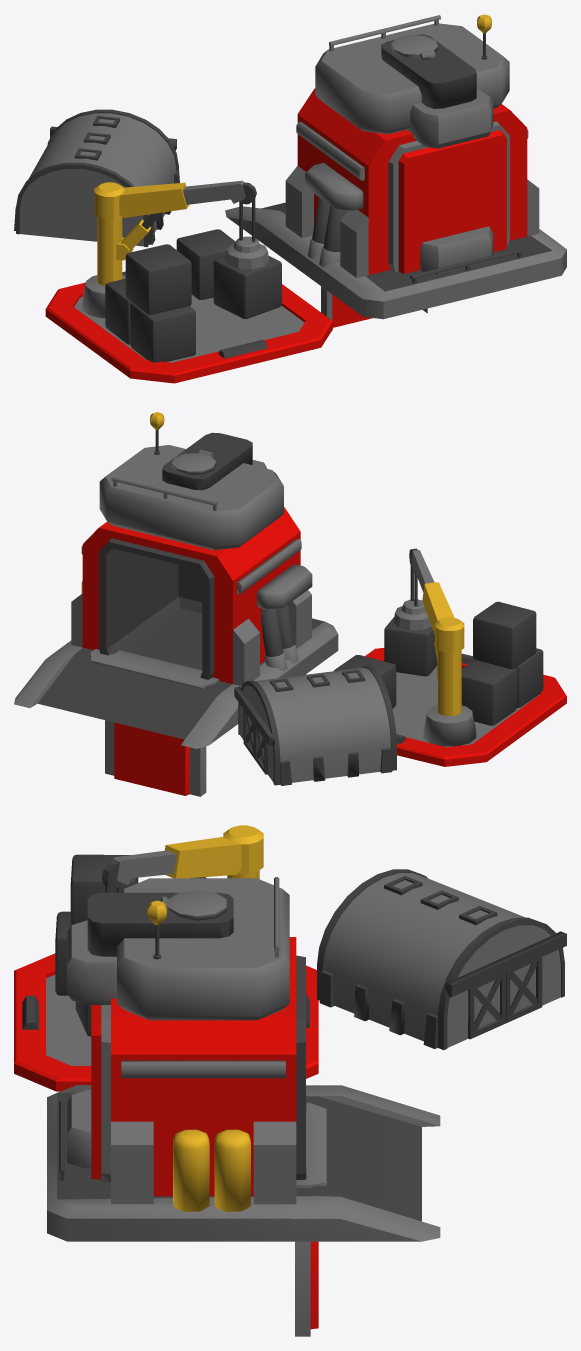
The picture shows the model from 3 angles, top to bottom: view 1: azimuth 30°, elevation 25°; view 2: azimuth 150°, elevation 25°; view 3: azimuth 270°, elevation 25°; orthographic projection. The views are drawn at different scales.
Parts seen in each view (by area): view 1: tank_base.007, tank_base.008, Plane_hangar, tank_base.001, Storage_Red.004, Storage_Red, tank_base.011, Storage_Red.001, tank_base.005, tank_base.002, Storage_Red.003, tank_base.012 (+5 smaller); view 2: tank_base.007, tank_base.001, Plane_hangar, tank_base.008, Storage_Red, Storage_Red.004, tank_base_door, Storage_Red.001, tank_base.002, tank_base.011, Storage_Red.002, tank_base.005 (+6 smaller); view 3: tank_base.001, Plane_hangar, tank_base.007, tank_base.008, Storage_Red.004, tank_base.011, Storage_Red, tank_base.006, tank_base.005, Plane_hangar.002, tank_base.009, tank_base_door (+5 smaller).
Boxes of the visible parts, box(x1,y1,x2,y2) form: tank_base.007: box(297, 88, 527, 274); tank_base.008: box(315, 15, 509, 148); Plane_hangar: box(14, 109, 179, 247); tank_base.001: box(225, 202, 566, 319); Storage_Red.004: box(45, 271, 332, 383); Storage_Red: box(82, 180, 281, 318); tank_base.011: box(285, 166, 539, 277); Storage_Red.001: box(125, 244, 191, 314); tank_base.005: box(381, 34, 476, 108); tank_base.002: box(305, 163, 363, 267); Storage_Red.003: box(130, 302, 195, 362); tank_base.012: box(420, 226, 493, 274); tank_base.007: box(82, 507, 300, 684); tank_base.001: box(14, 608, 338, 748); Plane_hangar: box(238, 665, 396, 785); tank_base.008: box(99, 445, 283, 550); Storage_Red: box(384, 548, 476, 746); Storage_Red.004: box(365, 648, 566, 766); tank_base_door: box(105, 720, 206, 796); Storage_Red.001: box(473, 601, 536, 668); tank_base.002: box(257, 564, 312, 671); tank_base.011: box(71, 590, 311, 686); Storage_Red.002: box(461, 660, 516, 725); tank_base.005: box(162, 432, 252, 490); tank_base.001: box(47, 1085, 440, 1241); Plane_hangar: box(317, 869, 564, 1050); tank_base.007: box(91, 937, 306, 1196); tank_base.008: box(67, 877, 289, 1020); Storage_Red.004: box(14, 953, 318, 1091); tank_base.011: box(111, 1121, 296, 1204); Storage_Red: box(75, 825, 263, 1036); tank_base.006: box(173, 1129, 250, 1211); tank_base.005: box(87, 892, 233, 956); Plane_hangar.002: box(445, 931, 566, 1039); tank_base.009: box(121, 1060, 285, 1078); tank_base_door: box(295, 1241, 318, 1336).
Bounding box in the file's own units: 313 × 227 × 262.
